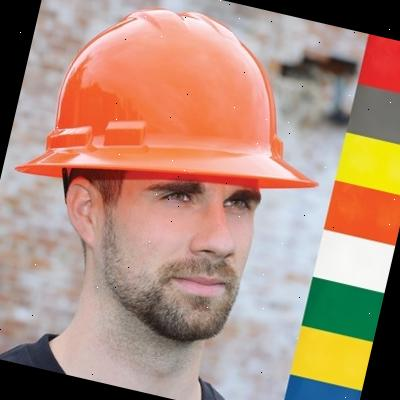helmet: (12, 0, 352, 240)
wear: (321, 130, 400, 242)
